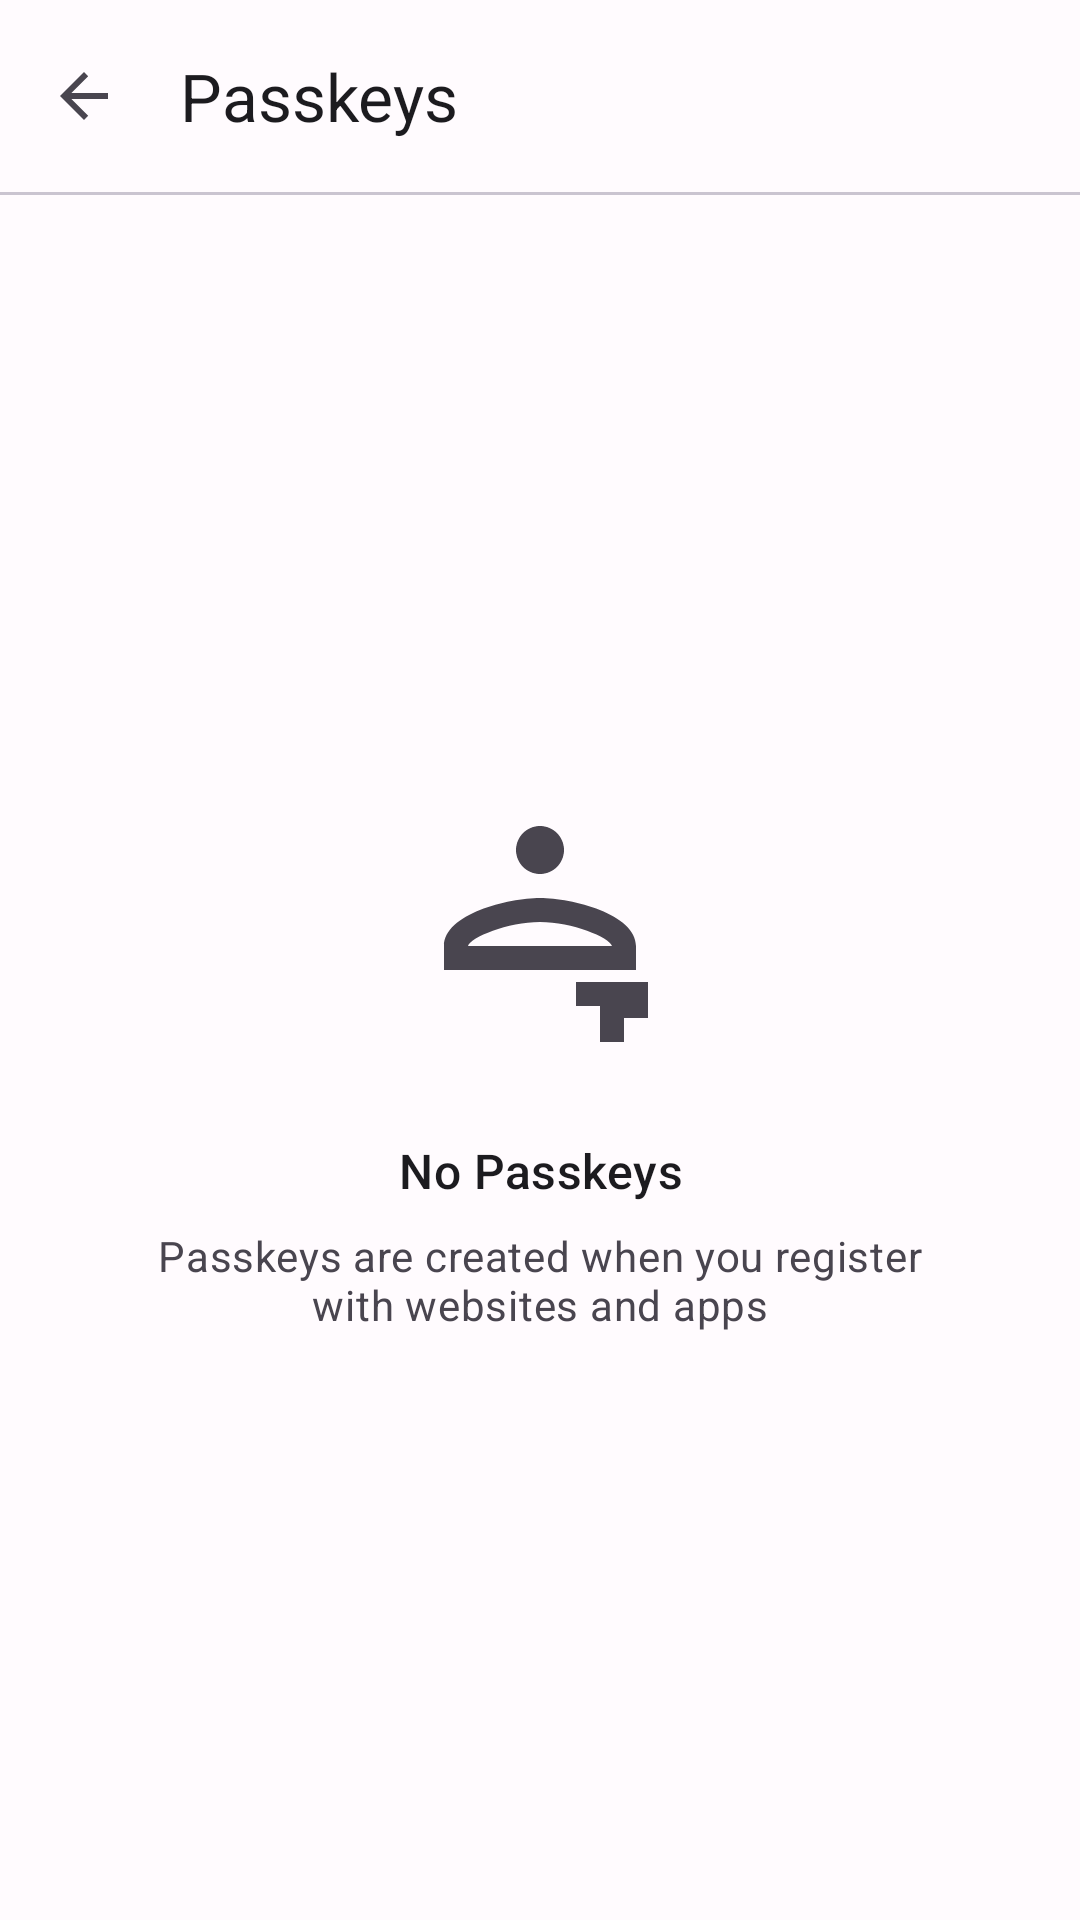

Point at icon controls on the screen. Image size 1080 × 1920, points as (x=x, y=y).
key fido: (x=546, y=934)
